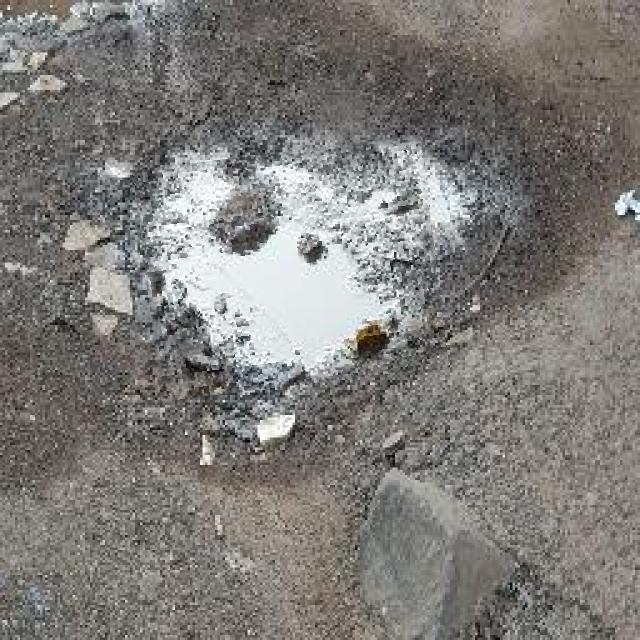puddle: (140, 145, 443, 394)
